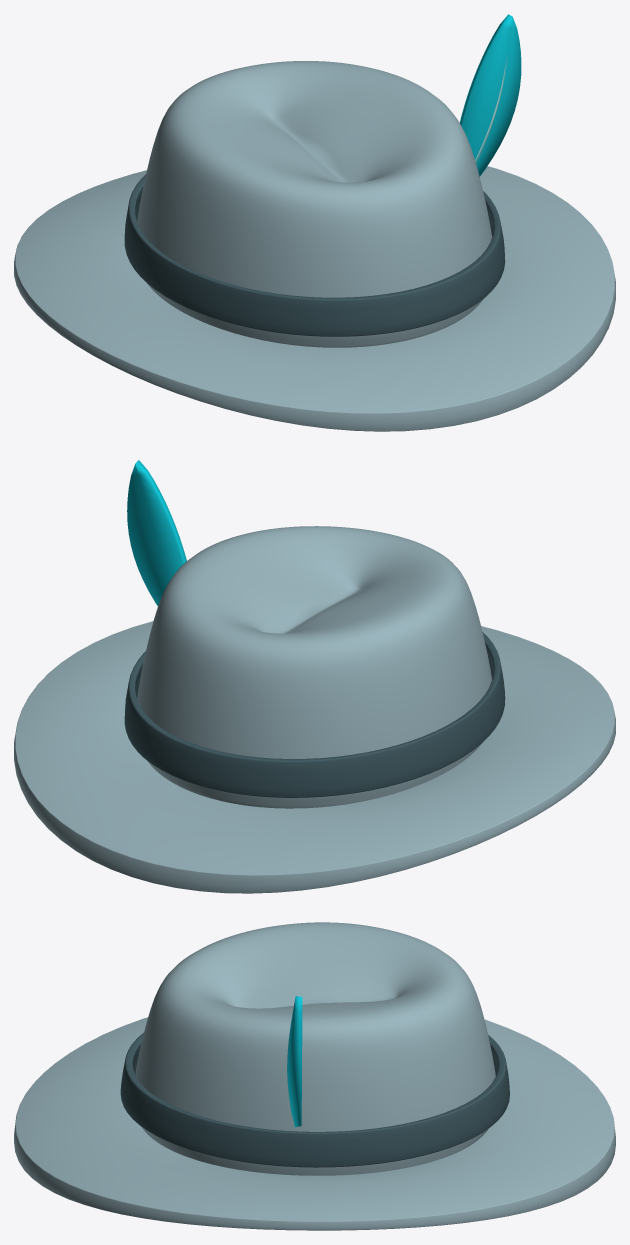
Rendered from feather_fedora.glb.
3 renders of one model, top to bottom at view 1: azimuth 30°, elevation 25°; view 2: azimuth 150°, elevation 25°; view 3: azimuth 270°, elevation 25°, orthographic. The views are drawn at different scales.
Parts seen in each view (by area): view 1: Pinched_crown, Brim, Ribbon, Turquoise_feather; view 2: Brim, Pinched_crown, Ribbon, Turquoise_feather; view 3: Pinched_crown, Brim, Ribbon, Turquoise_feather.
Boxes of the visible parts, x1,y1,x2,y2 form: Pinched_crown: [137, 61, 492, 347]; Brim: [14, 166, 615, 431]; Ribbon: [124, 174, 505, 336]; Turquoise_feather: [459, 14, 521, 176]; Brim: [14, 621, 615, 893]; Pinched_crown: [137, 526, 492, 808]; Ribbon: [124, 632, 505, 797]; Turquoise_feather: [127, 460, 186, 605]; Pinched_crown: [135, 922, 495, 1175]; Brim: [14, 1017, 615, 1230]; Ribbon: [120, 1032, 509, 1167]; Turquoise_feather: [287, 996, 302, 1127].
Size of the model in its own units: 1.26 by 0.5983 by 1.4.
